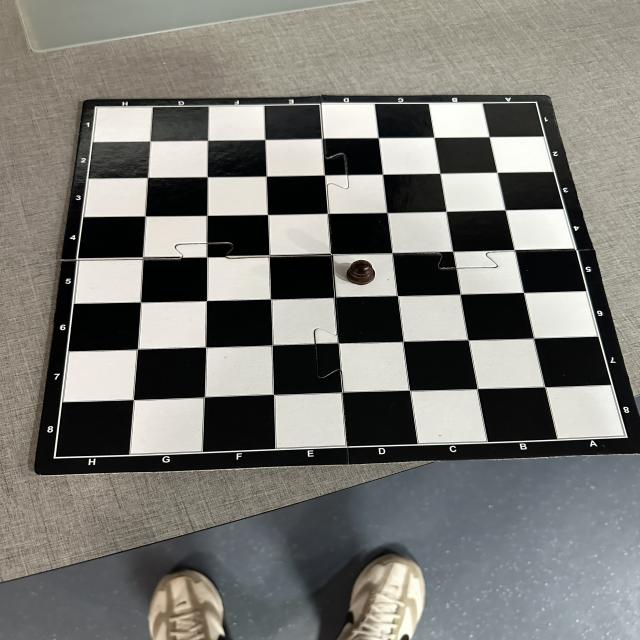Black-Pawn: (346, 260, 376, 285)
